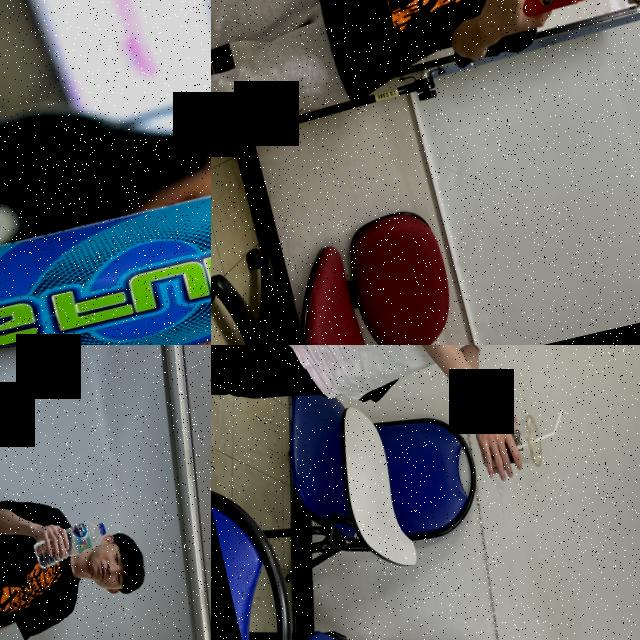bottle: (27, 514, 111, 568)
can: (0, 138, 211, 345)
cup: (482, 409, 546, 480)
